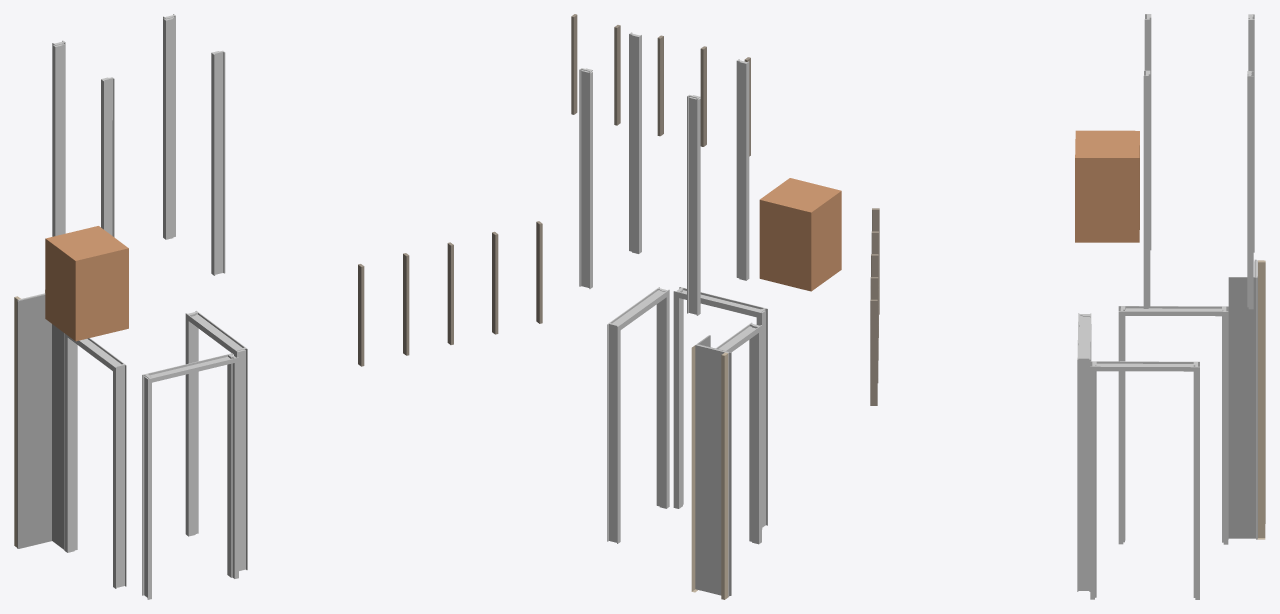
3 renders of one model, left to right at view 1: azimuth 30°, elevation 25°; view 2: azimuth 150°, elevation 25°; view 3: azimuth 270°, elevation 25°, orthographic. The views are drawn at different scales.
Bounding box in the file's own units: 4.18 × 5.39 × 3.68.
